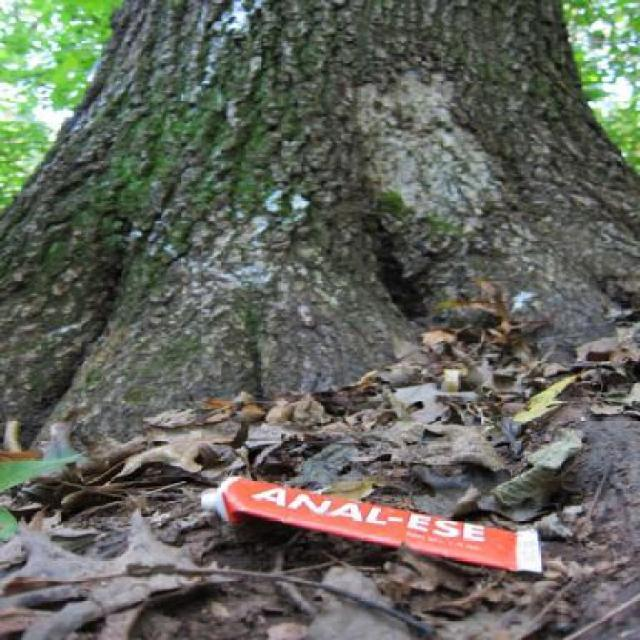garbage: (185, 465, 552, 575)
